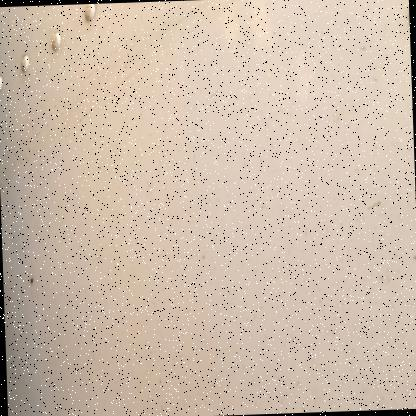Nocrack: (38, 15, 401, 407)
